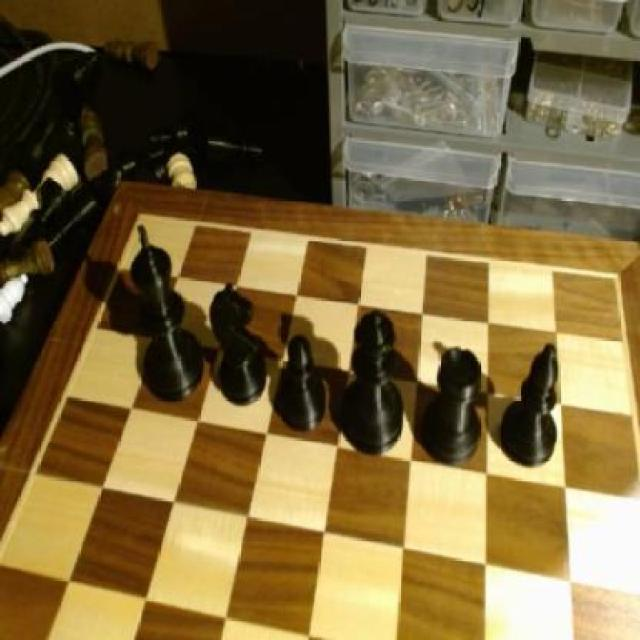bishop: (502, 342, 566, 470)
black-bishop: (129, 218, 207, 396)
black-king: (208, 282, 270, 403)
black-knight: (277, 334, 330, 435)
black-pawn: (342, 306, 404, 461)
black-queen: (426, 346, 484, 465)
